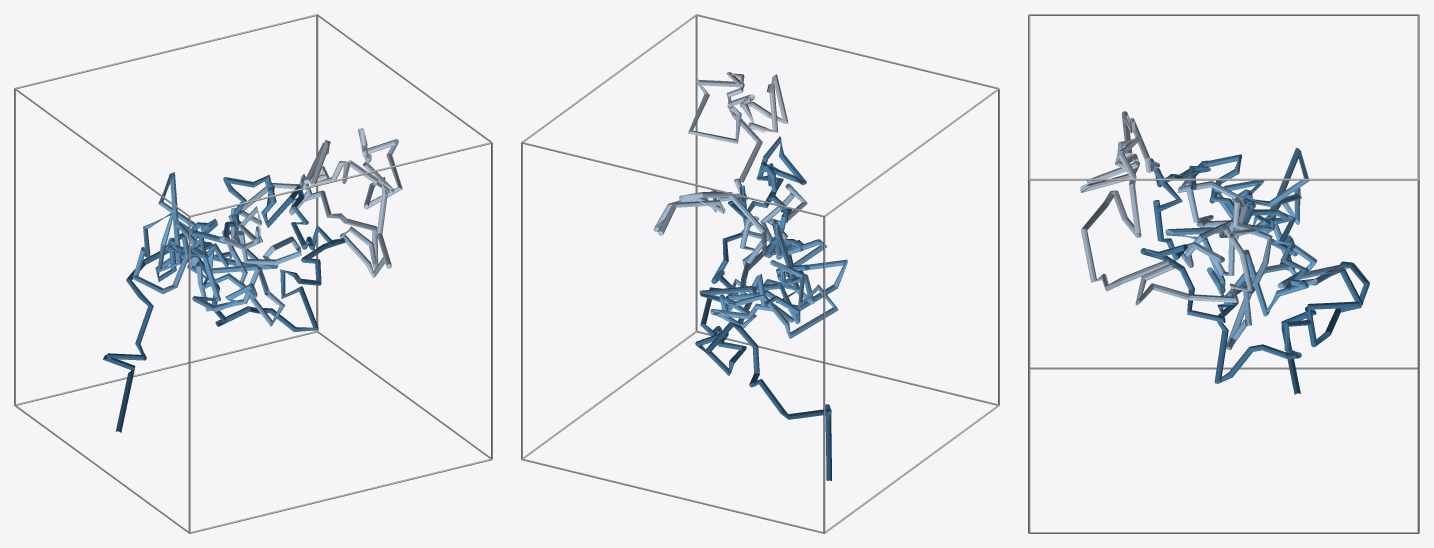
3 views of the same model, side by side, from view 1: azimuth 30°, elevation 25°; view 2: azimuth 150°, elevation 25°; view 3: azimuth 270°, elevation 25° (orthographic). The views are drawn at different scales.
Visible parts, largest first — view 1: geometry_0, geometry_1; view 2: geometry_0, geometry_1; view 3: geometry_0, geometry_1.
Part boxes in pixels (x1,y1,x2,y2): geometry_0: [103, 128, 402, 433]; geometry_1: [14, 14, 492, 533]; geometry_0: [653, 72, 847, 480]; geometry_1: [521, 14, 999, 533]; geometry_0: [1080, 111, 1369, 394]; geometry_1: [1028, 14, 1419, 533].
Size of the model in its own units: 0.3016 by 0.3019 by 0.3016.
